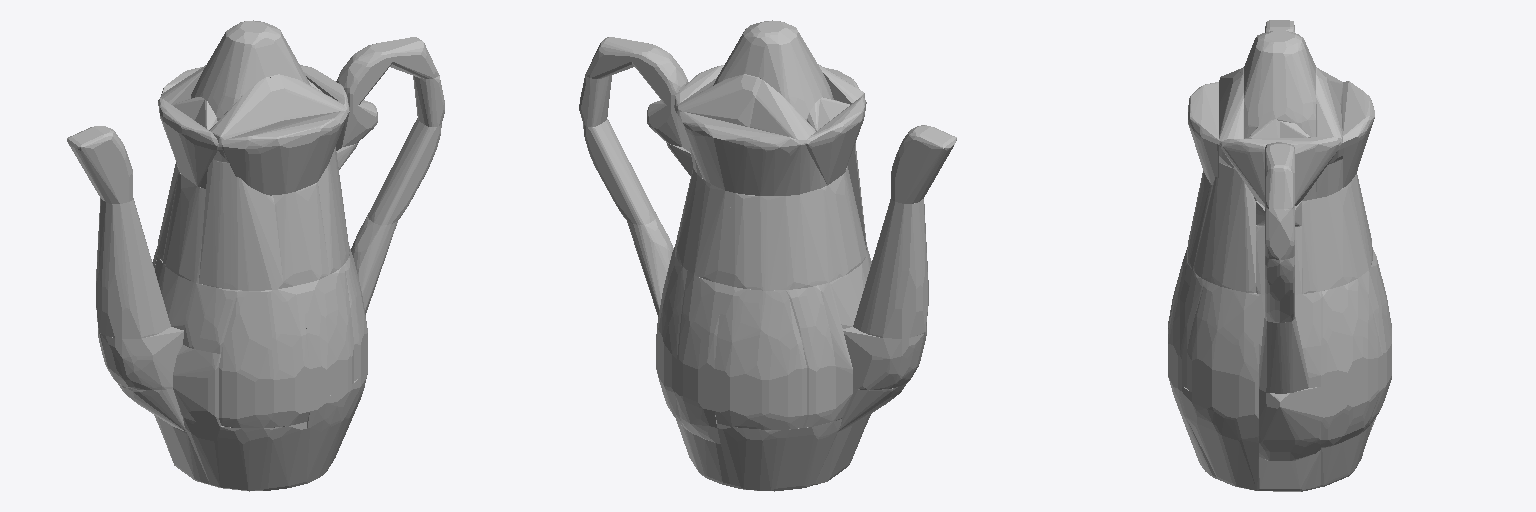
The robot description file, URDF, robot "root":
<?xml version="1.0"?>
<robot name="root">
  <link name="base_link">
    <visual>
      <origin xyz="0 0 0" rpy="0 0 0" />
      <geometry>
        <mesh filename="../meshes/unidex_sem_Teapot-3d2cafbf9a6a2da44212ff51b27f0221_006.obj" scale="1.0000E+00 1.0000E+00 1.0000E+00" />
      </geometry>
      <material name="">
        <color rgba="7.50E-01 7.50E-01 7.50E-01 1" />
      </material>
    </visual>
    <collision>
      <origin xyz="0 0 0" rpy="0 0 0" />
      <geometry>
        <mesh filename="../meshes/unidex_sem_Teapot-3d2cafbf9a6a2da44212ff51b27f0221_006.obj" scale="1.0000E+00 1.0000E+00 1.0000E+00" />
      </geometry>
    </collision>
  </link>
</robot>

--- What the picture shows (computed from the rendered views, not written in the file) ---
The picture shows the robot from 3 angles, left to right: view 1: azimuth 30°, elevation 25°; view 2: azimuth 150°, elevation 25°; view 3: azimuth 270°, elevation 25°; orthographic projection.
Model root with 1 links and 0 joints (none), rooted at base_link, posed all joints at 0.
Links seen in each view (by area): view 1: base_link; view 2: base_link; view 3: base_link.
Link boxes in pixels (bbox=[...]): base_link: bbox=[67, 20, 444, 491]; base_link: bbox=[579, 20, 956, 491]; base_link: bbox=[1168, 20, 1391, 491].
Size in the robot's own frame: 0.0947 by 0.0508 by 0.1063 metres.
Meshes: 1 distinct files referenced, 1 mesh visuals loaded (1 OBJ).
